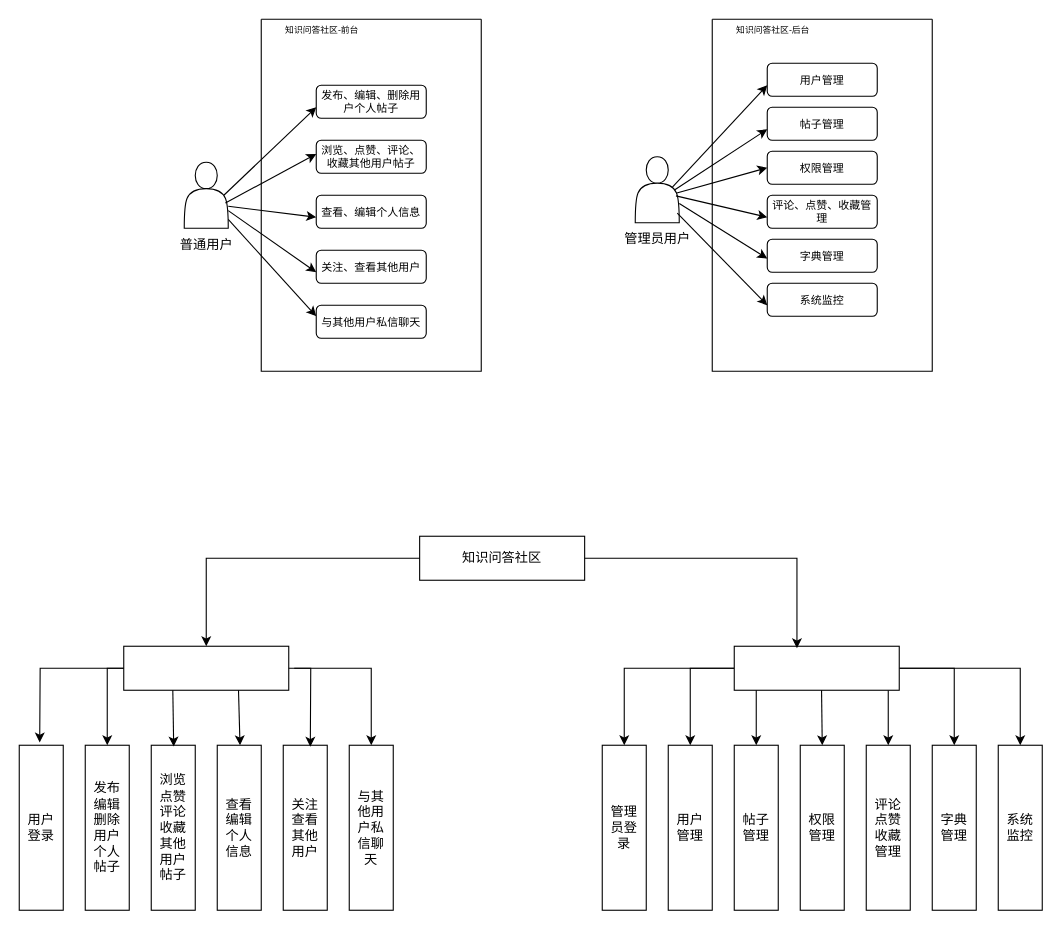
Some shapes in this 1062 by 930 pixel diagram are drawn without their labels. Each missing label, with the centre of its shape:
"知识问答社区用户端" goes at point 206,667.
"知识问答社区管理员端" goes at point 816,667.
